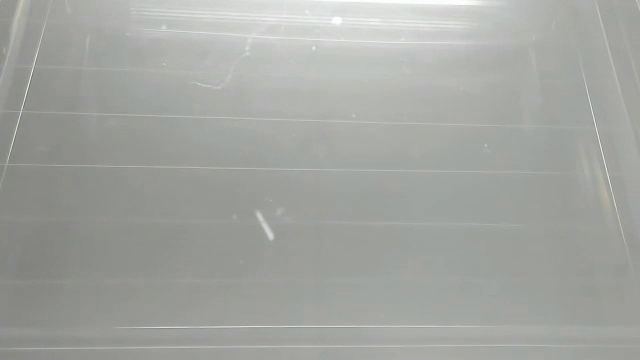alpha: (251, 207, 277, 243), (326, 14, 346, 29)
